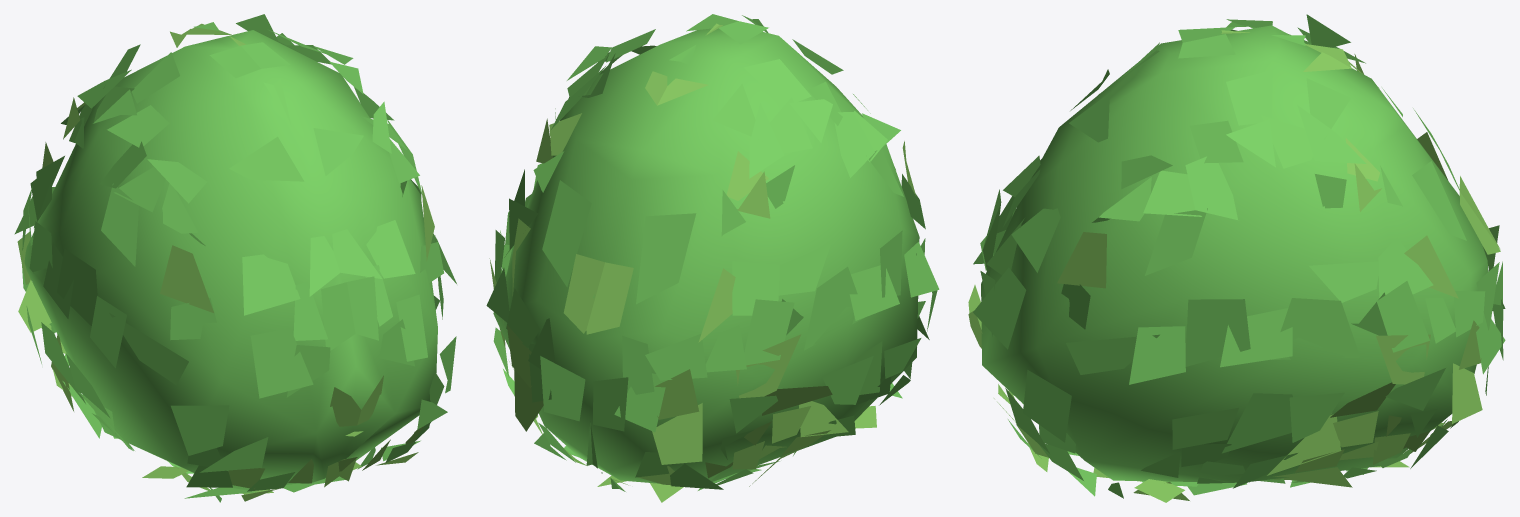
The model's file is Bush3.fbx.
3 renders of one model, left to right at view 1: azimuth 30°, elevation 25°; view 2: azimuth 150°, elevation 25°; view 3: azimuth 270°, elevation 25°, orthographic. The views are drawn at different scales.
Parts seen in each view (by area): view 1: Cube.003; view 2: Cube.003; view 3: Cube.003.
Boxes of the visible parts, x1=… form: Cube.003: x1=14, y1=14, x2=456, y2=502; Cube.003: x1=486, y1=14, x2=939, y2=502; Cube.003: x1=968, y1=14, x2=1505, y2=502.
Bounding box in the file's own units: 221 × 239 × 266.
